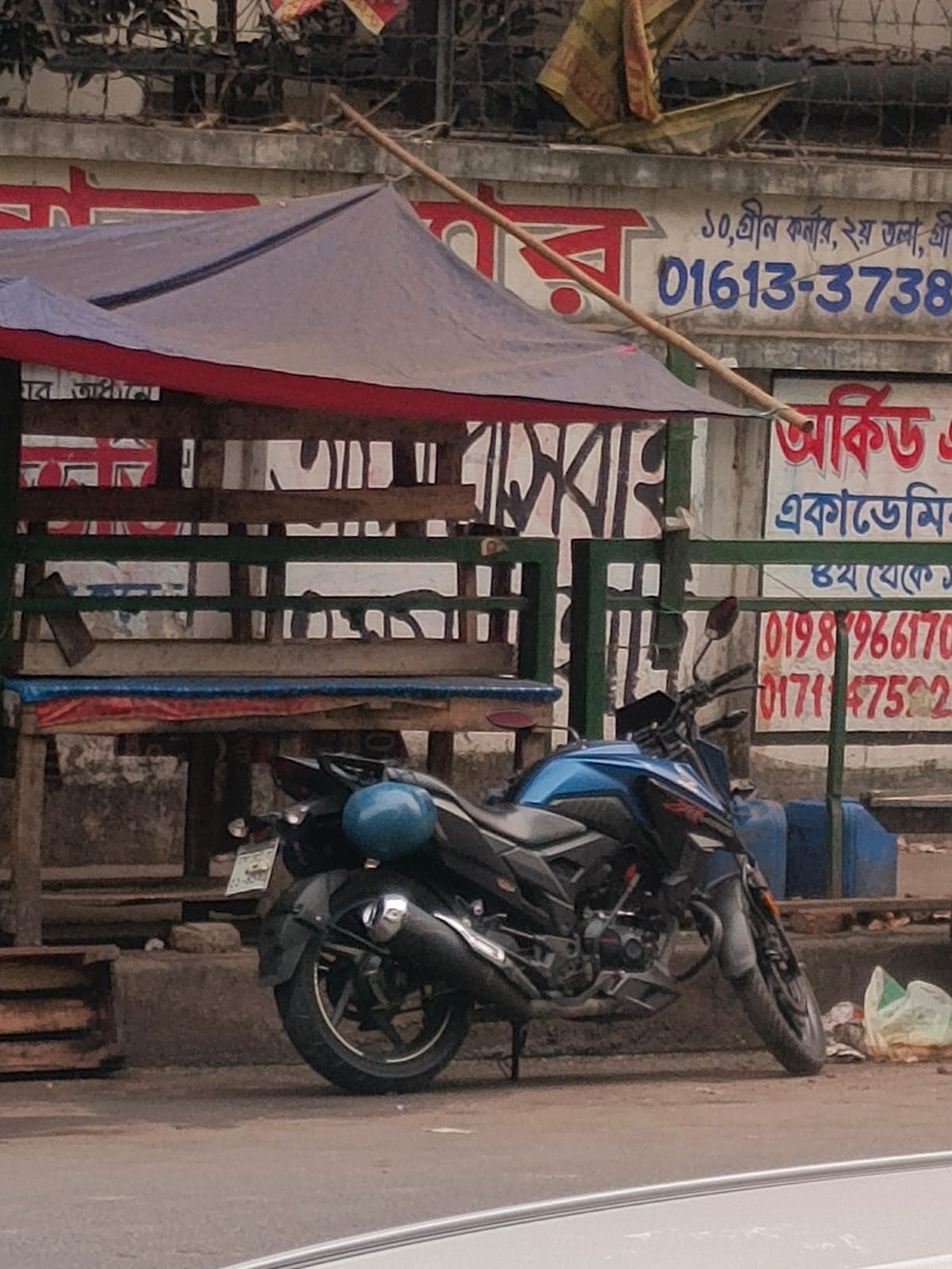Bikes: (210, 592, 830, 1105)
